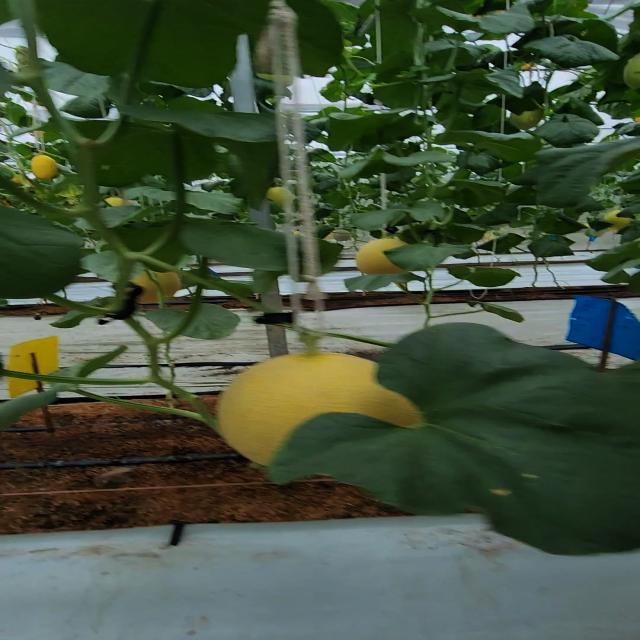Melon: (217, 350, 415, 470)
